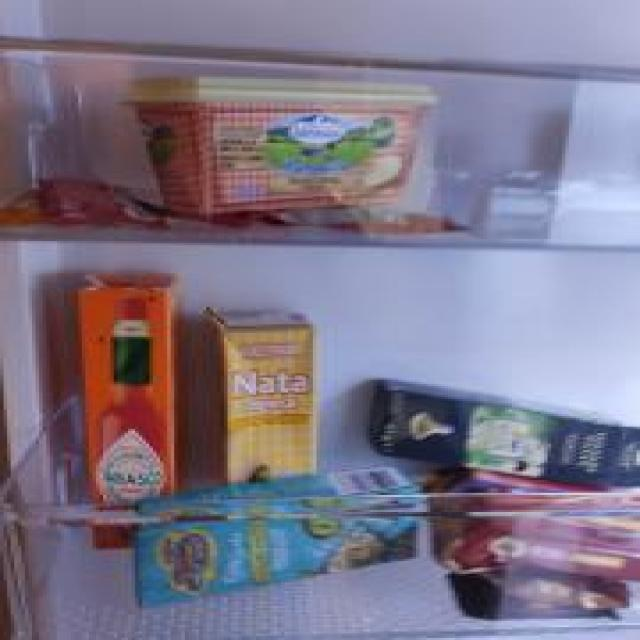butter: (123, 77, 439, 220)
heavy_cream: (202, 307, 316, 482)
